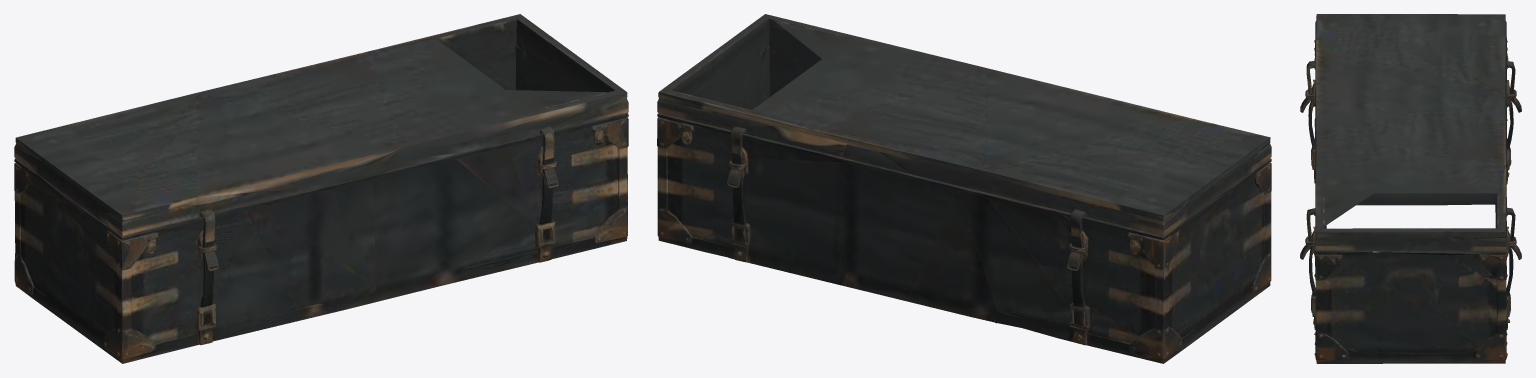
The model's file is mx_pr_coffin.glb.
3 renders of one model, left to right at view 1: azimuth 30°, elevation 25°; view 2: azimuth 150°, elevation 25°; view 3: azimuth 270°, elevation 25°, orthographic. The views are drawn at different scales.
Bounding box in the file's own units: 1.9 × 0.5336 × 0.8111.
1 material, 1 textured.
